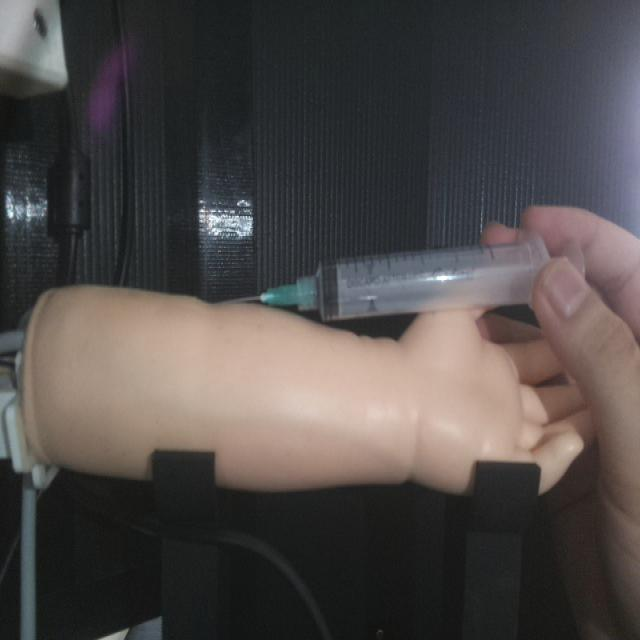Below 15 degrees: (224, 229, 583, 323)
